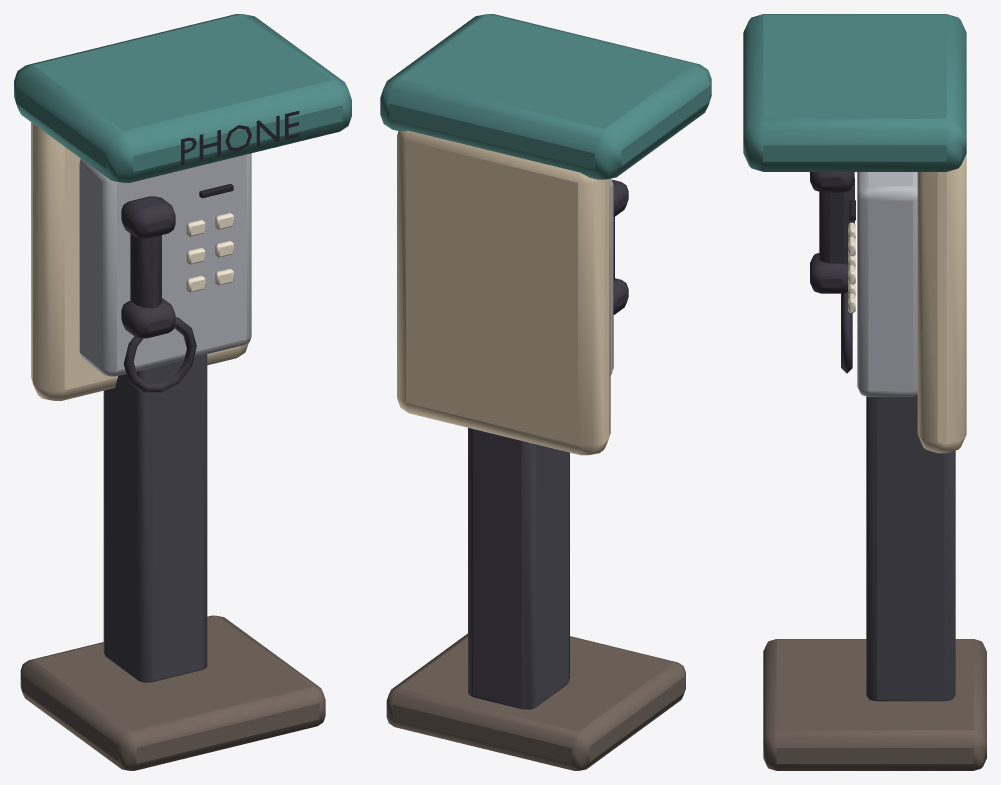
Rendered from era_payphone.glb.
3 views of the same model, side by side, from view 1: azimuth 30°, elevation 25°; view 2: azimuth 150°, elevation 25°; view 3: azimuth 270°, elevation 25° (orthographic). The views are drawn at different scales.
Parts seen in each view (by area): view 1: era_payphone; view 2: era_payphone; view 3: era_payphone.
Part boxes in pixels (<box>): era_payphone: <box>14,14,351,770</box>; era_payphone: <box>380,14,711,770</box>; era_payphone: <box>743,14,986,770</box>.
Size of the model in its own units: 0.64 by 1.63 by 0.552.
